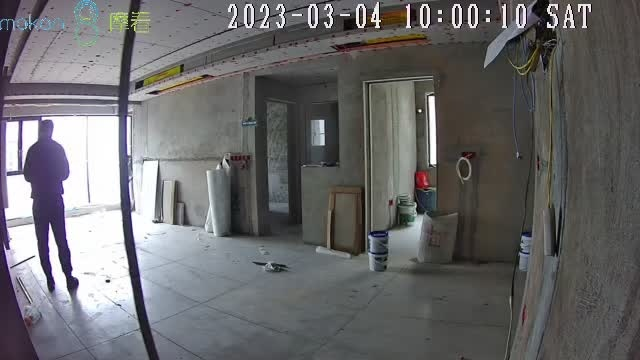people: (22, 120, 79, 291)
window: (6, 116, 134, 218)
